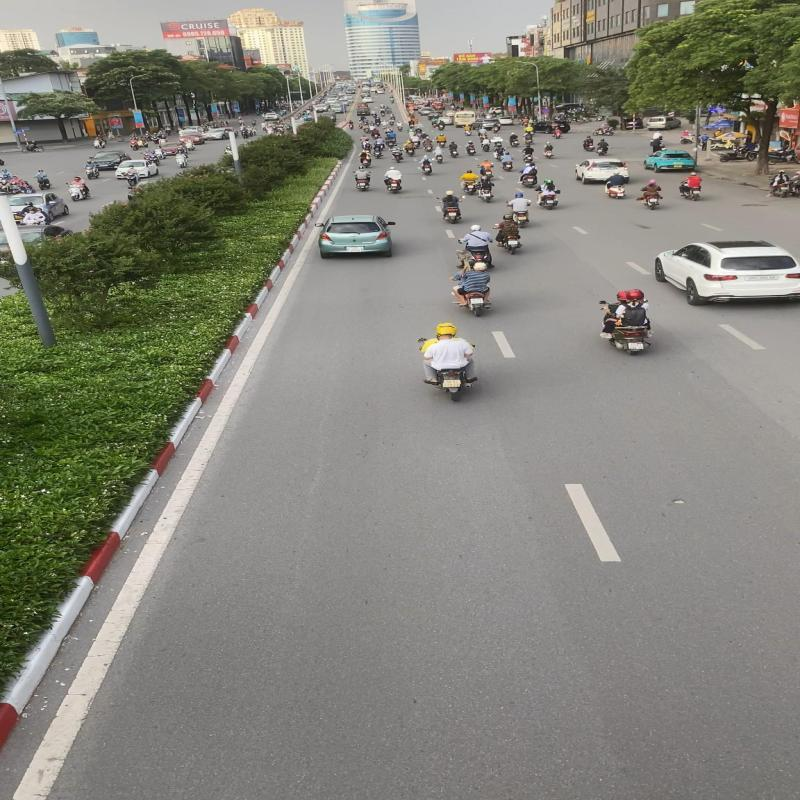helmet: (434, 322, 459, 336), (625, 290, 644, 302), (616, 290, 630, 302)
licenseplate: (441, 378, 462, 388), (626, 342, 646, 349)
motorcyclist: (418, 320, 481, 404), (598, 288, 656, 358)
